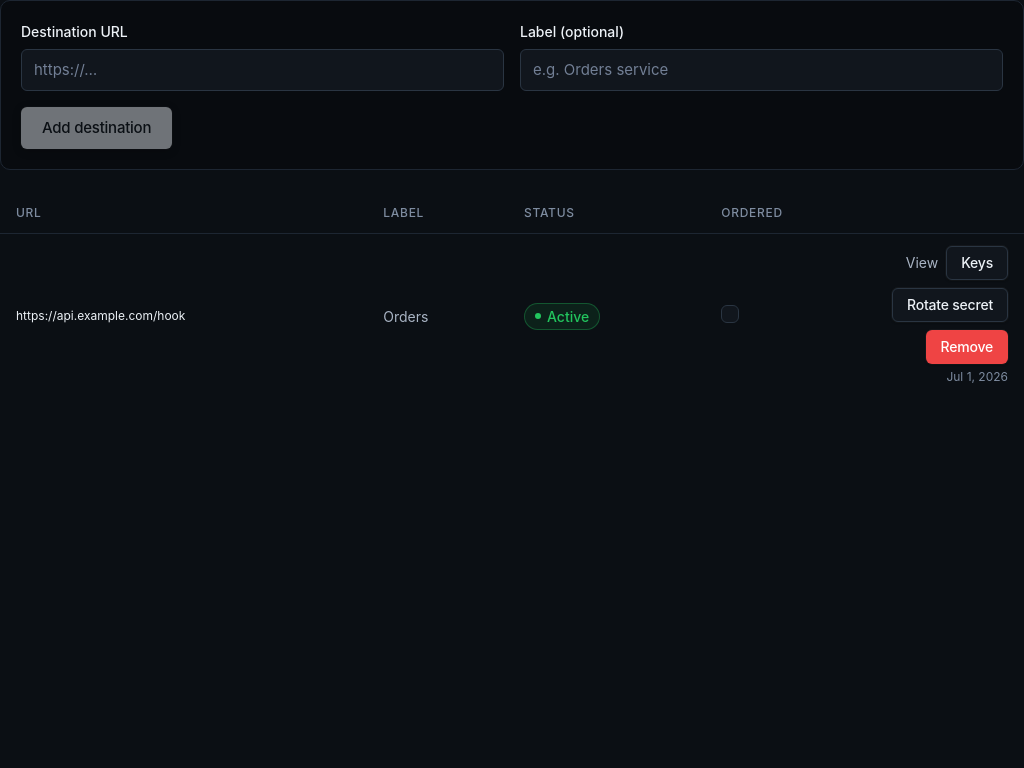
Test: ReplayDestinationsManager › keeps the remove dialog open and shows the failure inside it
Click the button "Remove" at (967, 347), box [926,330,1008,364]
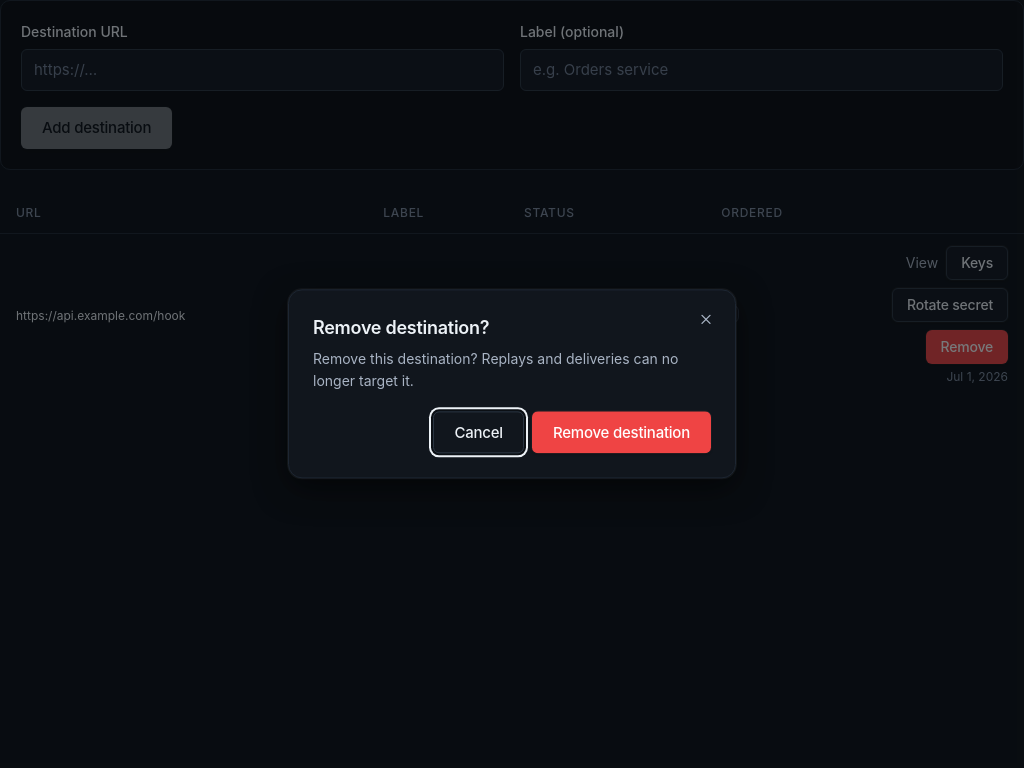
Click the button "Remove destination" at (621, 433), box [532,412,711,454]
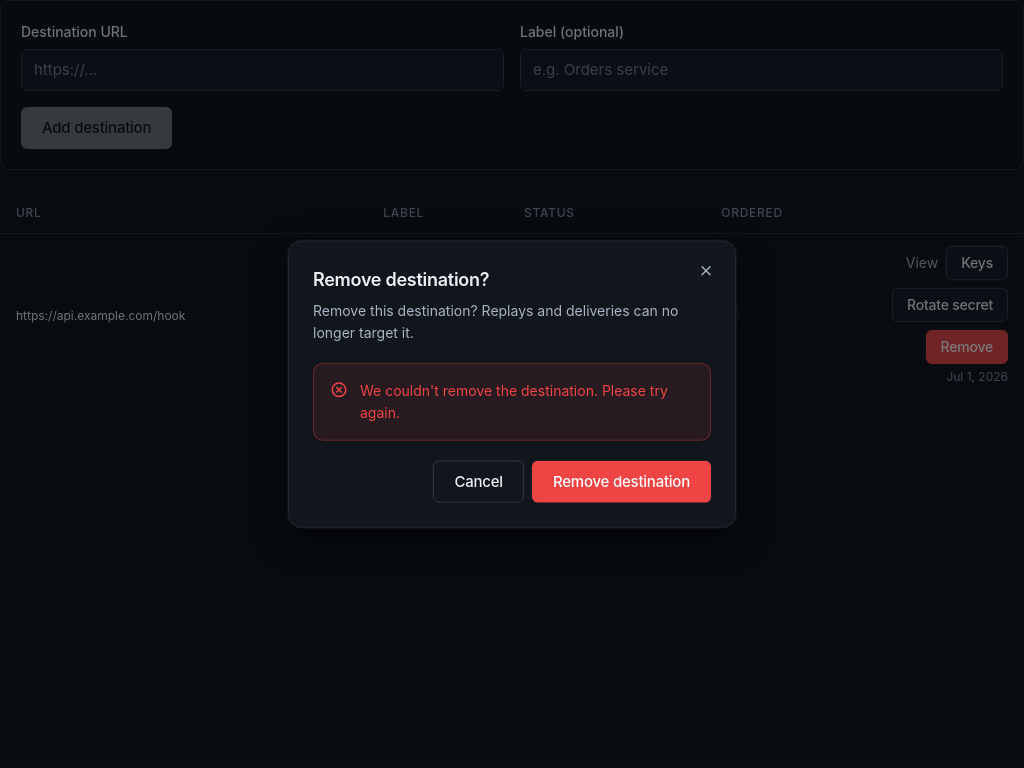
Expected: the text "https://api.example.com/hook" is shown, [16,308,185,323]
Expected: the text "We couldn't remove the destination. Please try again." is shown, [360,380,694,423]
